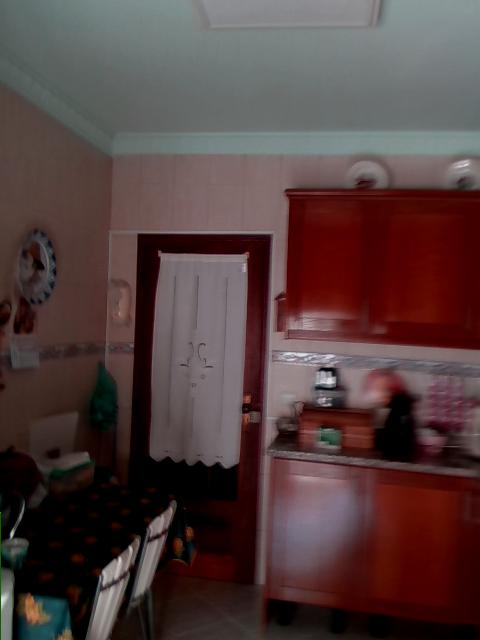closed_door: (129, 232, 273, 586)
